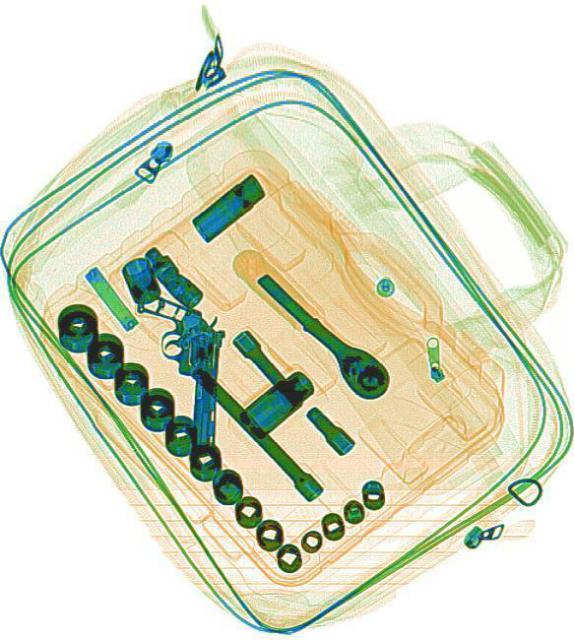Gun: (126, 290, 223, 454)
